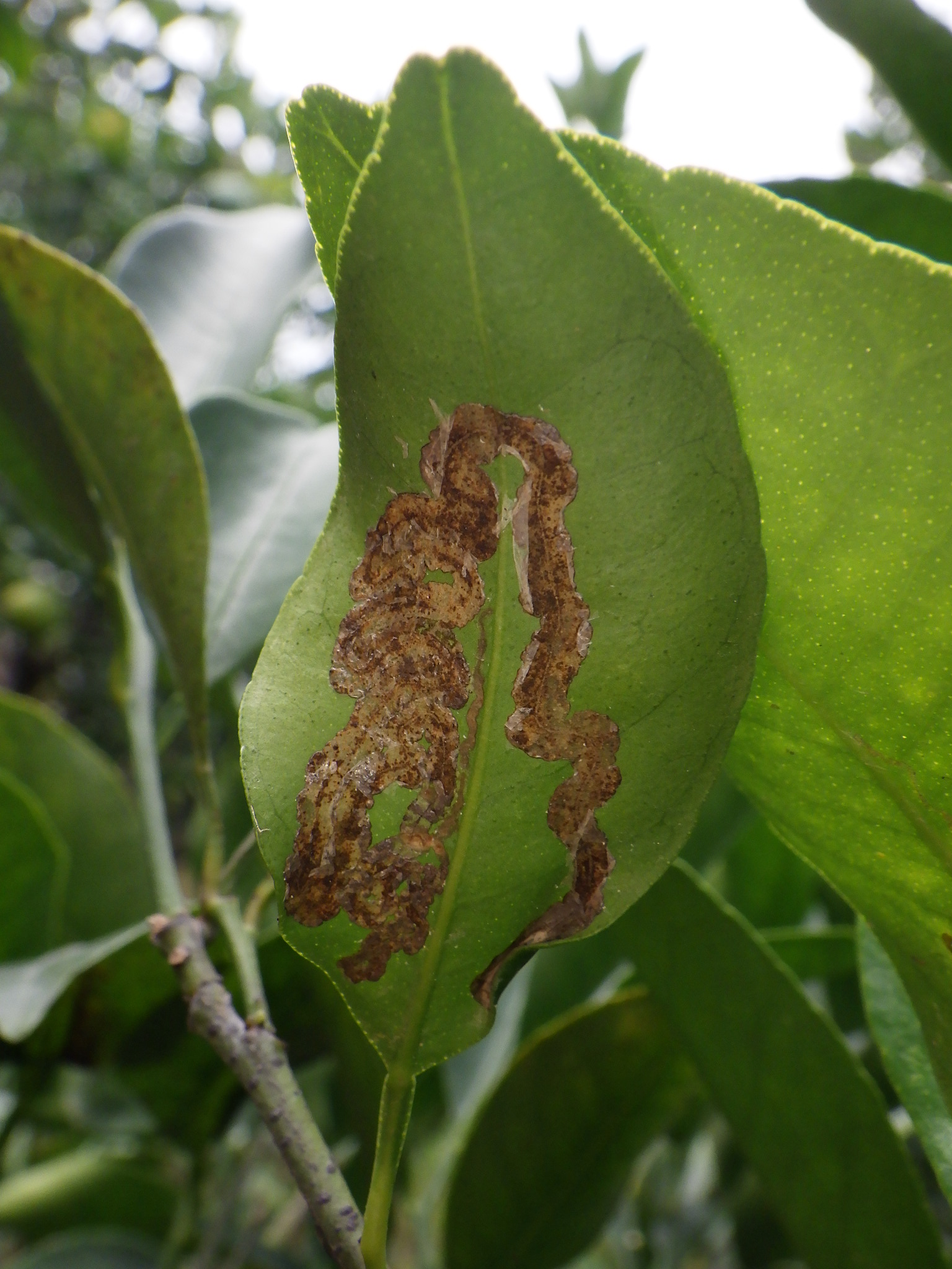Citrus_Leaf_Miner: (284, 405, 620, 1008)
